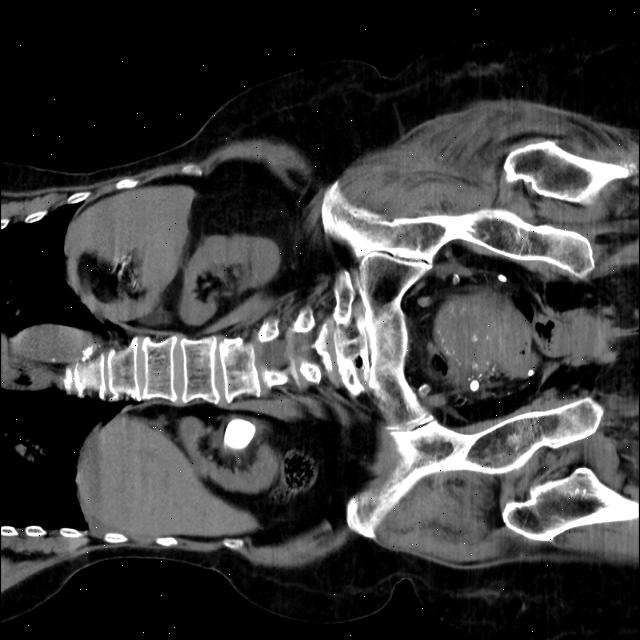kidneystone: (224, 419, 255, 448)
